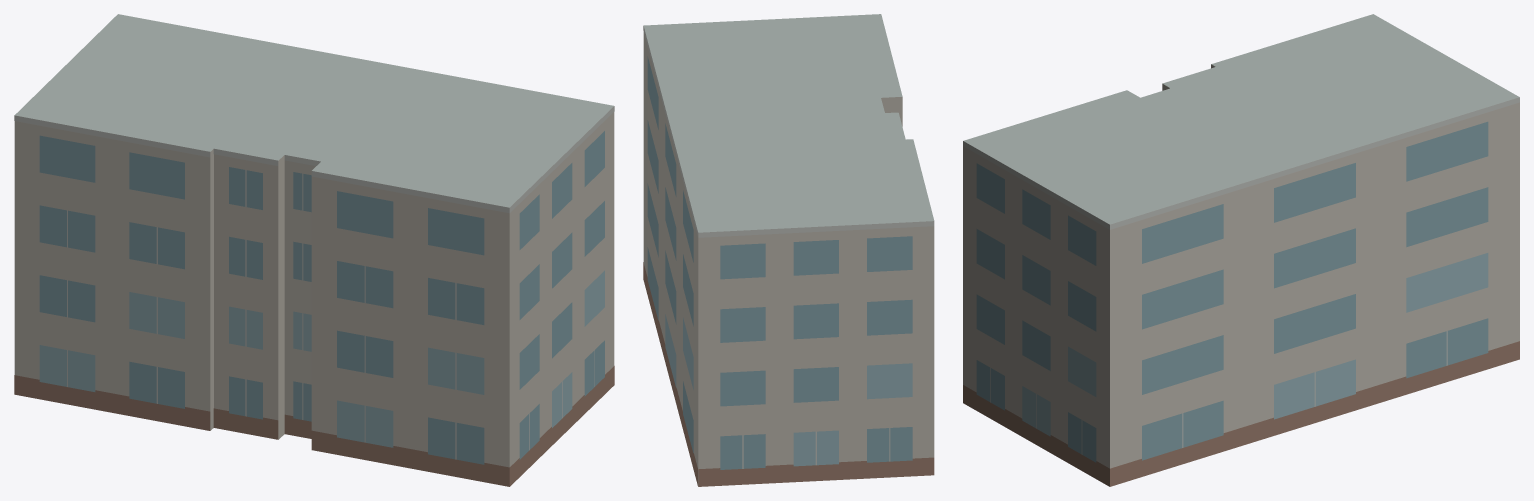
Rendered from survey-upis-32692414.glb.
The picture shows the model from 3 angles, left to right: view 1: azimuth 30°, elevation 25°; view 2: azimuth 150°, elevation 25°; view 3: azimuth 270°, elevation 25°; orthographic projection. The views are drawn at different scales.
Parts seen in each view (by area): view 1: survey-upis-32692414.tmp; view 2: survey-upis-32692414.tmp; view 3: survey-upis-32692414.tmp.
Part boxes in pixels (x1,y1,x2,y2): survey-upis-32692414.tmp: [14, 14, 614, 486]; survey-upis-32692414.tmp: [643, 14, 934, 486]; survey-upis-32692414.tmp: [963, 14, 1519, 486].
Size of the model in its own units: 21.03 by 12.2 by 23.48.
